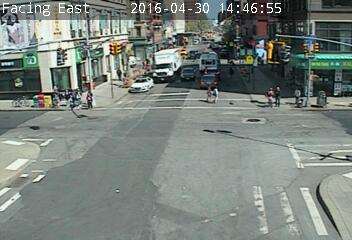neg: (314, 87, 332, 112), (305, 28, 322, 51), (106, 29, 123, 51), (13, 173, 29, 195), (7, 86, 23, 107), (204, 121, 219, 142), (248, 68, 263, 88), (20, 127, 35, 147), (126, 58, 141, 77), (202, 22, 217, 41), (52, 82, 66, 100), (224, 59, 237, 76), (320, 148, 332, 164)
pos: (80, 87, 97, 110), (272, 83, 289, 105), (209, 85, 224, 105), (264, 86, 279, 106), (201, 83, 214, 102), (112, 64, 124, 80)
